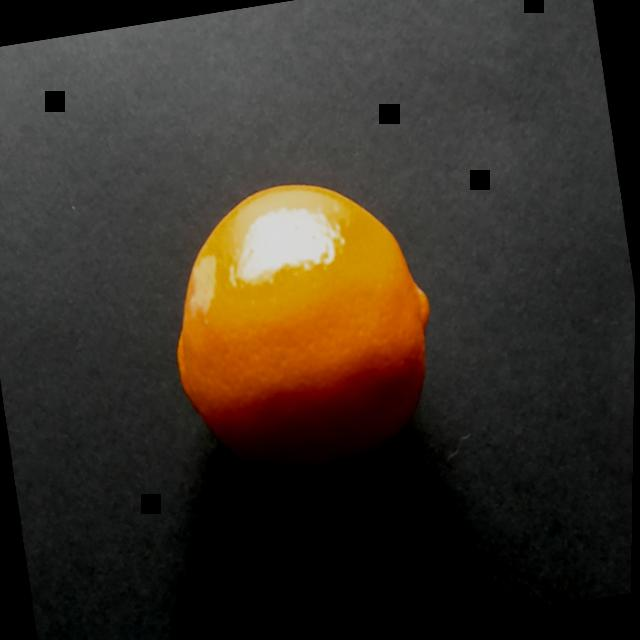Lemon: (118, 126, 493, 536)
